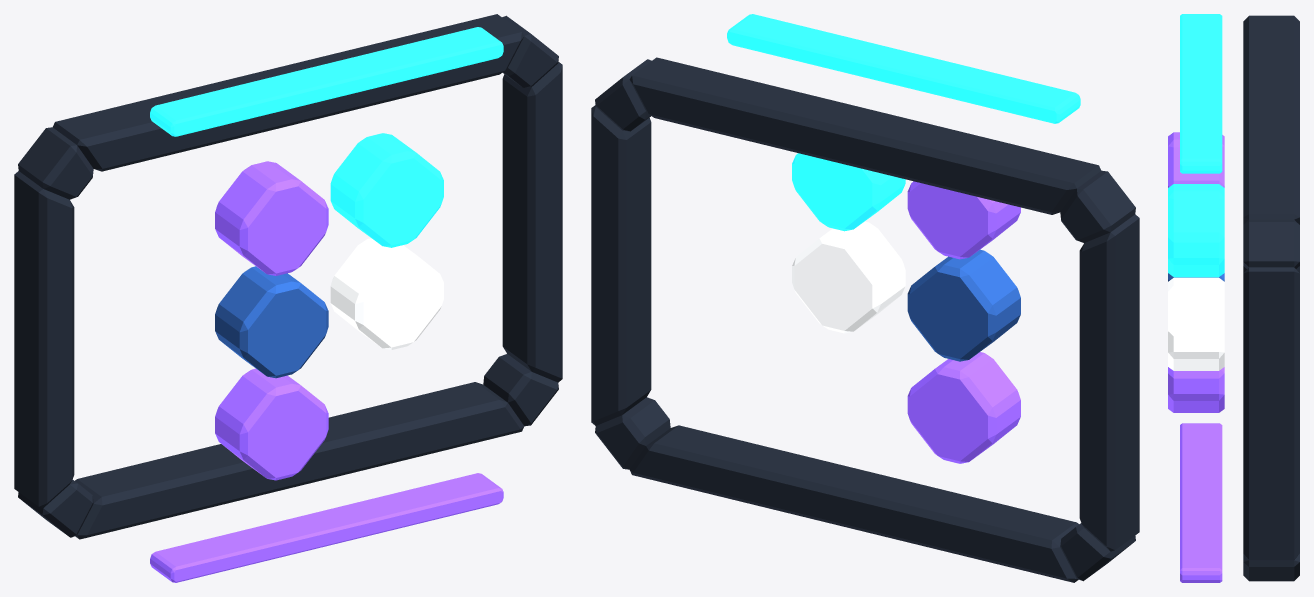
Rendered from tech-figma.glb.
3 renders of one model, left to right at view 1: azimuth 30°, elevation 25°; view 2: azimuth 150°, elevation 25°; view 3: azimuth 270°, elevation 25°, orthographic. The views are drawn at different scales.
Visible parts, largest first — view 1: tech-figma_SystemMaterial, tech-figma_AccentMaterial, tech-figma_SignalMaterial, tech-figma_LabelMaterial, tech-figma_CoreMaterial; view 2: tech-figma_SystemMaterial, tech-figma_SignalMaterial, tech-figma_AccentMaterial, tech-figma_CoreMaterial, tech-figma_LabelMaterial; view 3: tech-figma_SystemMaterial, tech-figma_SignalMaterial, tech-figma_AccentMaterial, tech-figma_LabelMaterial.
Boxes of the visible parts, x1,y1,x2,y2 form: tech-figma_SystemMaterial: [14, 14, 562, 539]; tech-figma_AccentMaterial: [150, 161, 503, 582]; tech-figma_SignalMaterial: [150, 27, 503, 247]; tech-figma_LabelMaterial: [330, 238, 443, 349]; tech-figma_CoreMaterial: [215, 266, 328, 378]; tech-figma_SystemMaterial: [591, 57, 1139, 582]; tech-figma_SignalMaterial: [727, 14, 1080, 231]; tech-figma_AccentMaterial: [907, 181, 1020, 463]; tech-figma_CoreMaterial: [907, 249, 1020, 361]; tech-figma_LabelMaterial: [792, 221, 905, 333]; tech-figma_SystemMaterial: [1243, 15, 1299, 581]; tech-figma_SignalMaterial: [1168, 14, 1224, 277]; tech-figma_AccentMaterial: [1168, 132, 1224, 582]; tech-figma_LabelMaterial: [1168, 277, 1224, 370].
Size of the model in its own units: 1.18 by 0.995 by 0.28.
